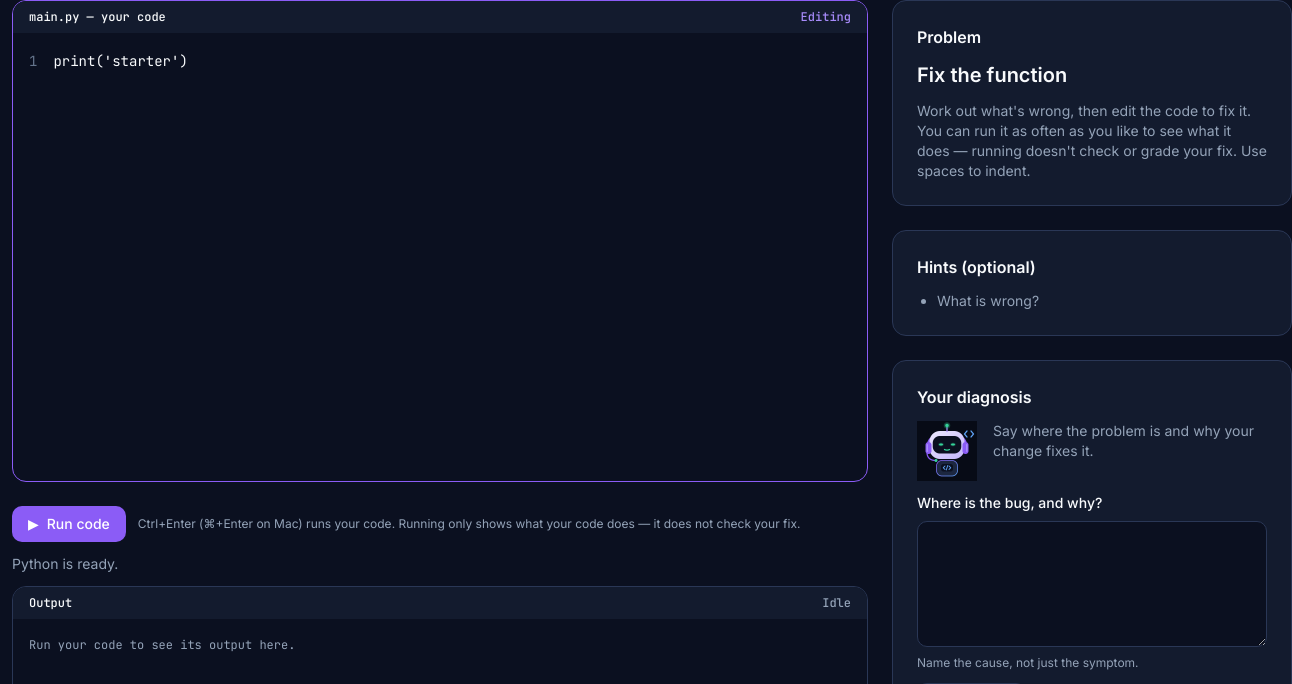
Test: Fix stage: running code › never claims the code is correct: a clean run only says the program finished
Click the button "▶ Run code": (69, 524) [12,506,126,542]
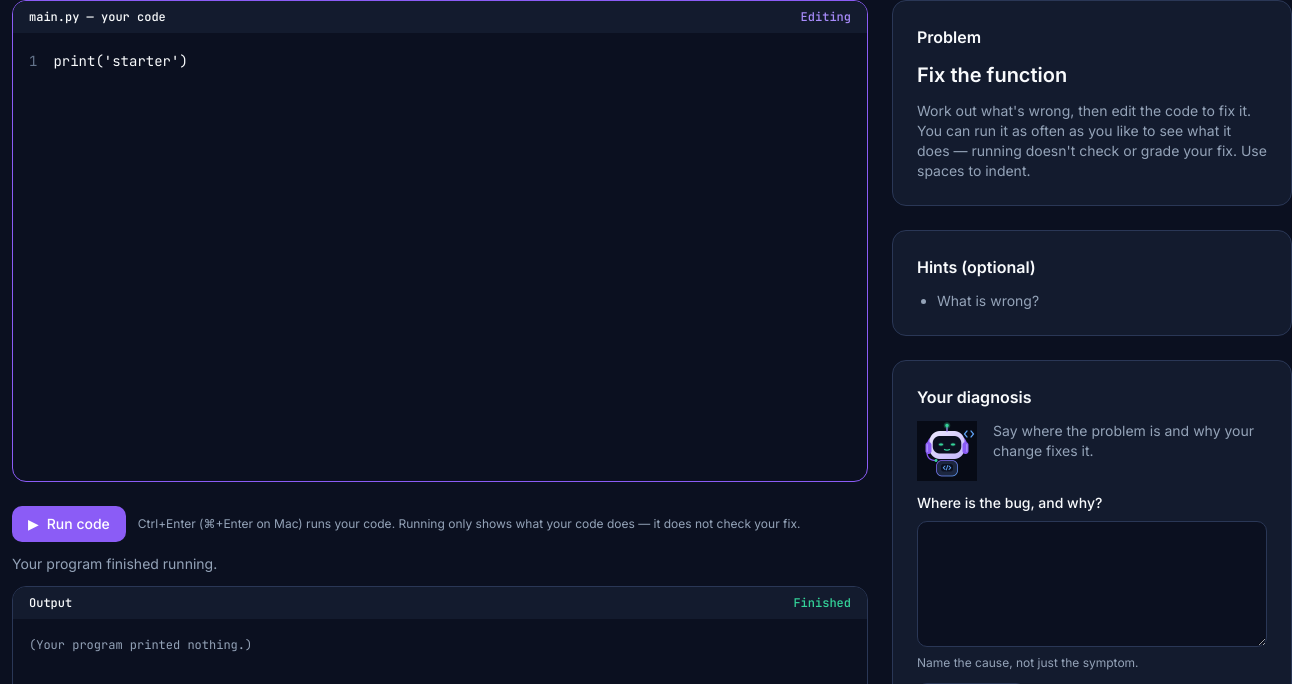
Check: the text "does not check your fix" is shown, box [392,516,800,531]
Check: the message with test id "run-status" reads "Your program finished running.", box [12,555,217,572]
